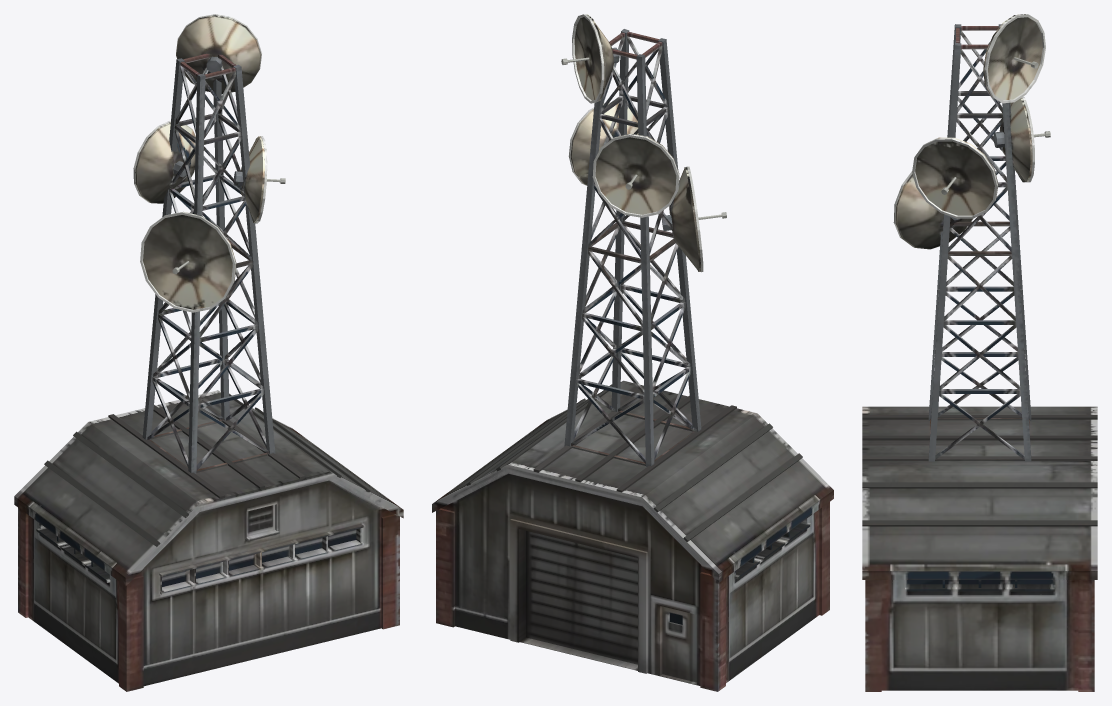
The model's file is relaystation_cad.glb.
The picture shows the model from 3 angles, left to right: view 1: azimuth 30°, elevation 25°; view 2: azimuth 150°, elevation 25°; view 3: azimuth 270°, elevation 25°; orthographic projection. The views are drawn at different scales.
Parts seen in each view (by area): view 1: RelayStation; view 2: RelayStation; view 3: RelayStation.
Boxes of the visible parts, x1,y1,x2,y2 form: RelayStation: (14,14,403,691); RelayStation: (432,14,833,691); RelayStation: (862,14,1097,691).
Bounding box in the file's own units: 8.44 × 17 × 5.86.
Materials: 1 (1 with a texture image).
